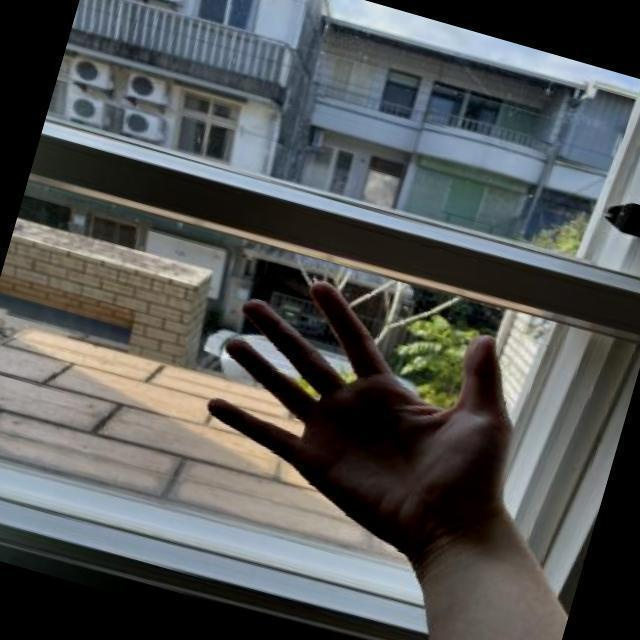hand: (158, 239, 562, 600)
